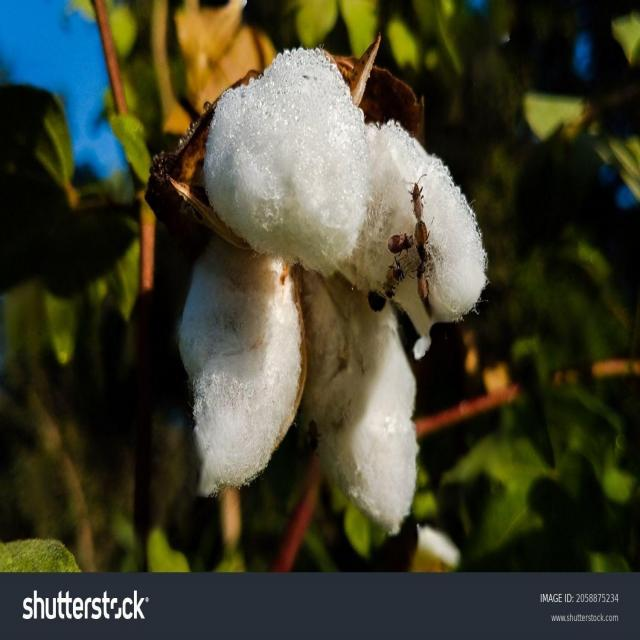Leaf: (146, 25, 503, 555)
